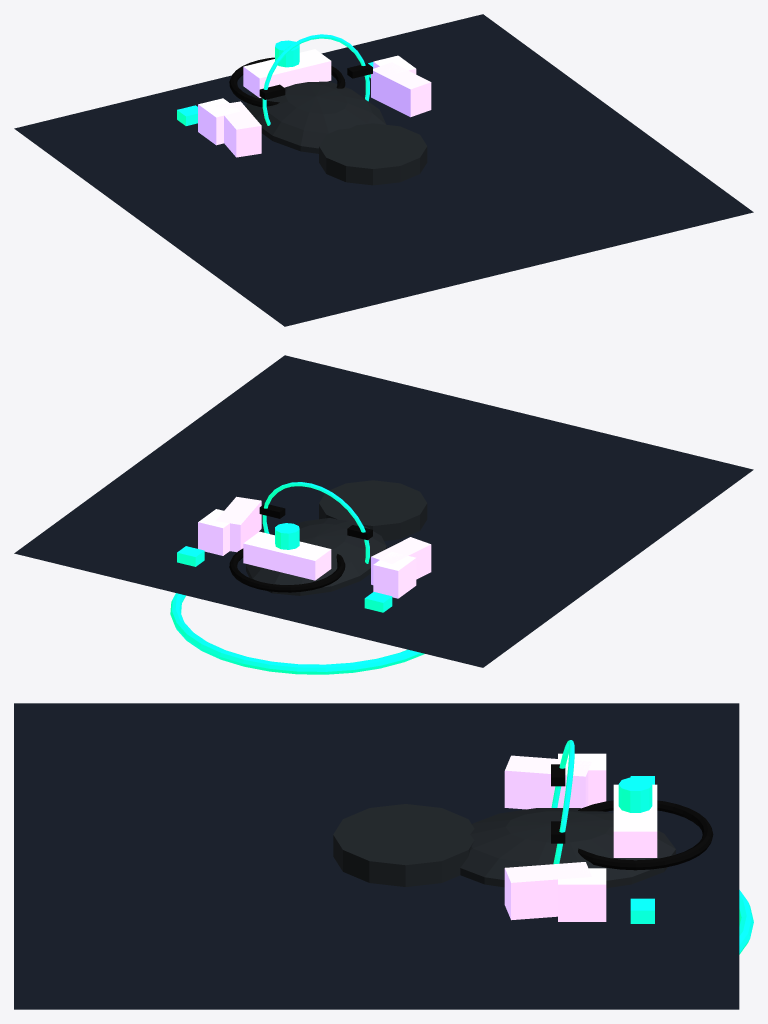
File: avatar_mnd_jitsu.glb
3 views of the same model, one above another, from view 1: azimuth 30°, elevation 25°; view 2: azimuth 150°, elevation 25°; view 3: azimuth 270°, elevation 25° (orthographic). The views are drawn at different scales.
Visible parts, largest first — view 1: SOL, MASQUE, SOCLE, JOUE_D, FRONT, JOUE_G, SIG_BLOC_G, LISERE, ANNEAU_KANJI; view 2: SOL, SOCLE, MASQUE, ANNEAU_MND, FRONT, SIG_BLOC_G, JOUE_D, JOUE_G, ANNEAU_KANJI, SIG_BLOC_D, LISERE, POINT_MND; view 3: SOL, SOCLE, MASQUE, JOUE_G, JOUE_D, ANNEAU_KANJI, FRONT, SIG_BLOC_D, SIG_BLOC_G, POINT_MND, LISERE, ANNEAU_MND (+1 smaller).
Part boxes in pixels (<box>): SOL: <box>14,14,753,326</box>; MASQUE: <box>246,81,386,153</box>; SOCLE: <box>319,123,427,185</box>; JOUE_D: <box>371,62,431,117</box>; FRONT: <box>243,49,331,97</box>; JOUE_G: <box>216,101,261,157</box>; SIG_BLOC_G: <box>198,98,240,145</box>; LISERE: <box>262,34,369,125</box>; ANNEAU_KANJI: <box>229,57,345,107</box>; SOL: <box>14,355,753,667</box>; SOCLE: <box>319,480,427,540</box>; MASQUE: <box>246,518,386,595</box>; ANNEAU_MND: <box>170,593,424,674</box>; FRONT: <box>243,531,331,580</box>; SIG_BLOC_G: <box>373,551,416,598</box>; JOUE_D: <box>216,496,261,552</box>; JOUE_G: <box>371,537,431,584</box>; ANNEAU_KANJI: <box>229,548,345,592</box>; SIG_BLOC_D: <box>198,509,229,555</box>; LISERE: <box>262,482,369,563</box>; POINT_MND: <box>275,523,299,549</box>; SOL: <box>14,703,739,1009</box>; SOCLE: <box>333,804,474,886</box>; MASQUE: <box>460,808,675,888</box>; JOUE_G: <box>504,755,591,809</box>; JOUE_D: <box>504,862,591,920</box>; ANNEAU_KANJI: <box>578,800,713,870</box>; FRONT: <box>613,784,657,857</box>; SIG_BLOC_D: <box>558,868,606,921</box>; SIG_BLOC_G: <box>558,753,606,805</box>; POINT_MND: <box>618,777,652,812</box>; LISERE: <box>551,740,574,864</box>; ANNEAU_MND: <box>739,890,753,954</box>.
Size of the model in its own units: 6 by 1.65 by 6.12.
